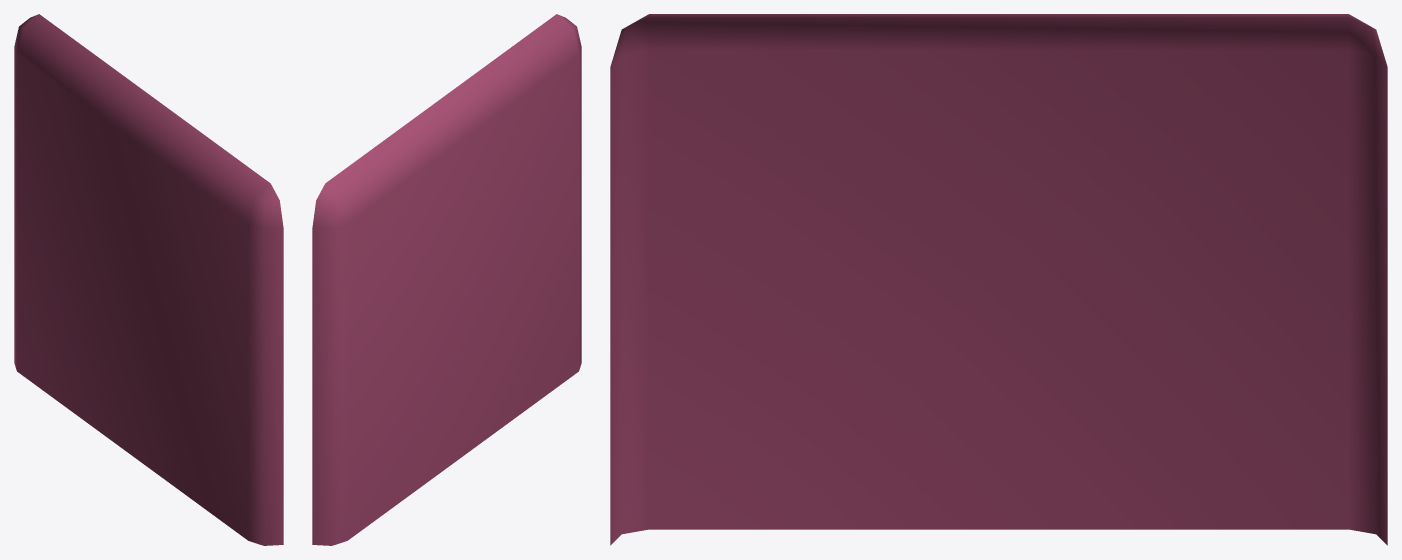
Rendered from dostawczak-klapa.gltf.
The picture shows the model from 3 angles, left to right: view 1: azimuth 30°, elevation 25°; view 2: azimuth 150°, elevation 25°; view 3: azimuth 270°, elevation 25°; orthographic projection. The views are drawn at different scales.
Visible parts, largest first — view 1: Cube.008; view 2: Cube.008; view 3: Cube.008.
Part boxes in pixels (bbox=[...]): Cube.008: bbox=[14, 14, 283, 545]; Cube.008: bbox=[312, 14, 581, 545]; Cube.008: bbox=[610, 14, 1387, 545].
Bounding box in the file's own units: 0.1 × 1.51 × 2.
1 material, 1 textured.
